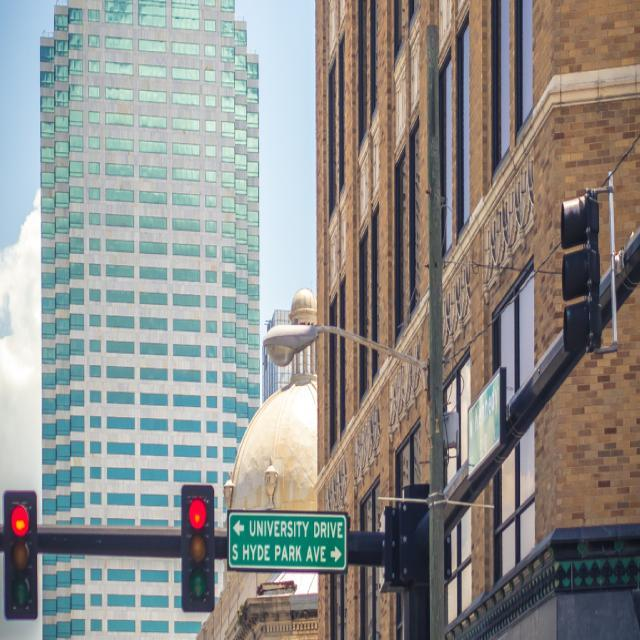traffic light: (563, 185, 598, 353)
